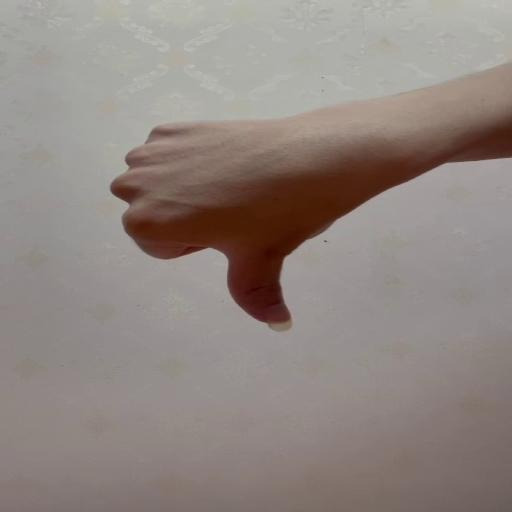thumbs_down: (107, 117, 377, 333)
